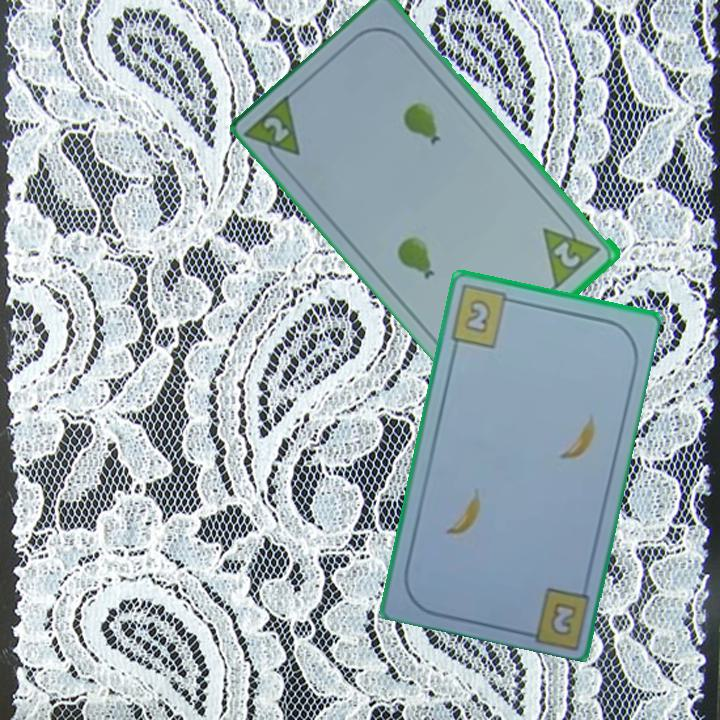2b: (446, 282, 521, 351), (546, 598, 580, 639)
2p: (539, 211, 605, 290), (260, 113, 293, 146)
